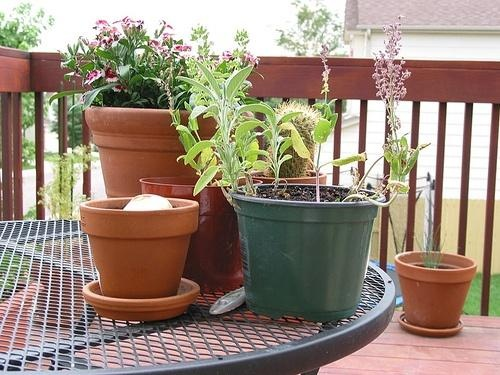pottedplant: (229, 42, 387, 322), (66, 16, 257, 199), (134, 68, 270, 292), (390, 170, 477, 338)
